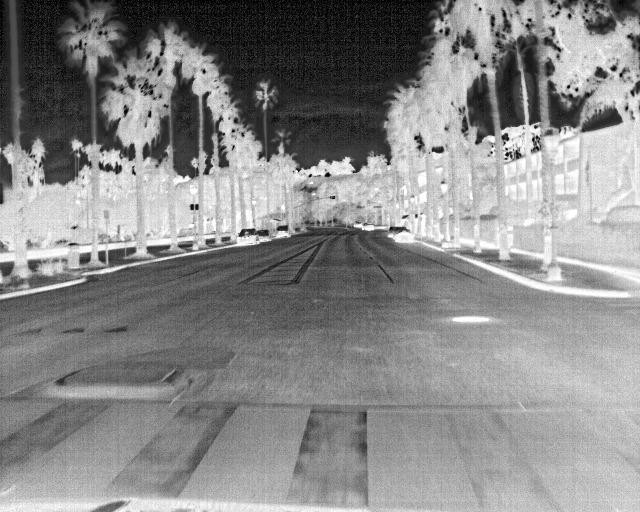car: (234, 227, 261, 246), (393, 228, 417, 243), (253, 228, 273, 242), (273, 224, 292, 238), (385, 225, 401, 239), (361, 222, 377, 232), (351, 220, 362, 229)
